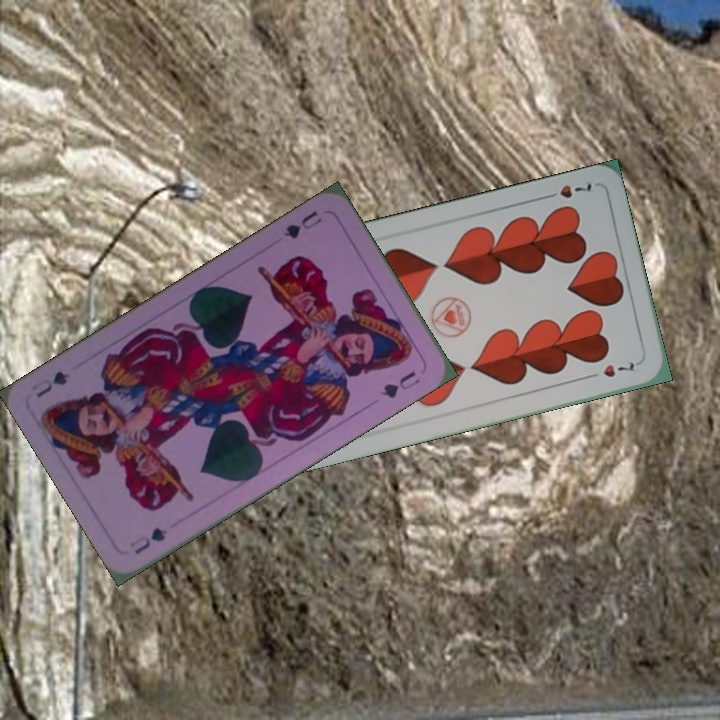GU: (279, 207, 325, 241), (125, 523, 170, 557)
H7: (539, 177, 594, 203)
